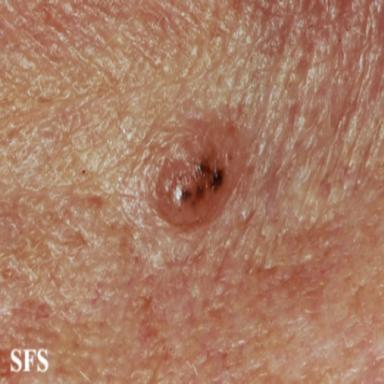basal-cell-carcinoma: (155, 111, 253, 226)
